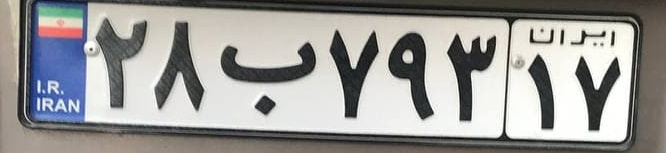character: (218, 19, 322, 124), (324, 17, 388, 128), (151, 14, 217, 119), (441, 24, 503, 134), (91, 5, 150, 114), (387, 19, 440, 128), (569, 49, 626, 137), (520, 51, 568, 138)
